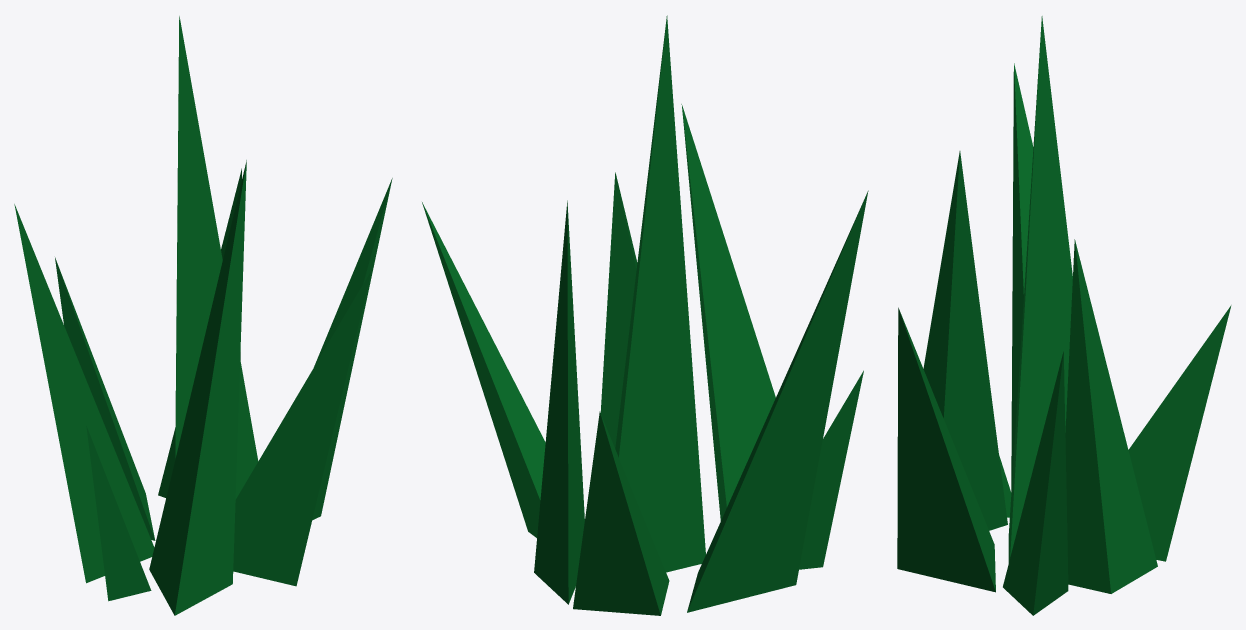
File: grass4.fbx
The picture shows the model from 3 angles, left to right: view 1: azimuth 30°, elevation 25°; view 2: azimuth 150°, elevation 25°; view 3: azimuth 270°, elevation 25°; orthographic projection. The views are drawn at different scales.
Parts seen in each view (by area): view 1: Cone; view 2: Cone; view 3: Cone.
Part boxes in pixels (x1,y1,x2,y2): Cone: (14, 16, 392, 615); Cone: (422, 15, 868, 615); Cone: (897, 16, 1231, 615).
Bounding box in the file's own units: 98.6 × 124 × 70.47.
